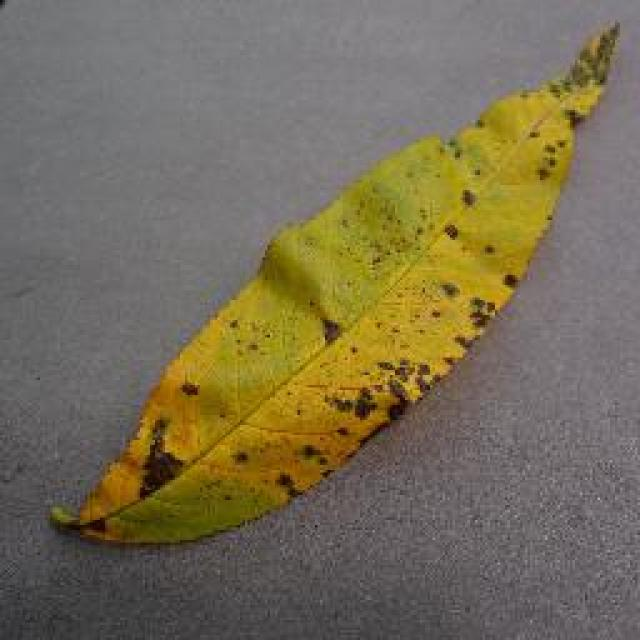Peach_Bacterial_Spot: (77, 145, 508, 477)
